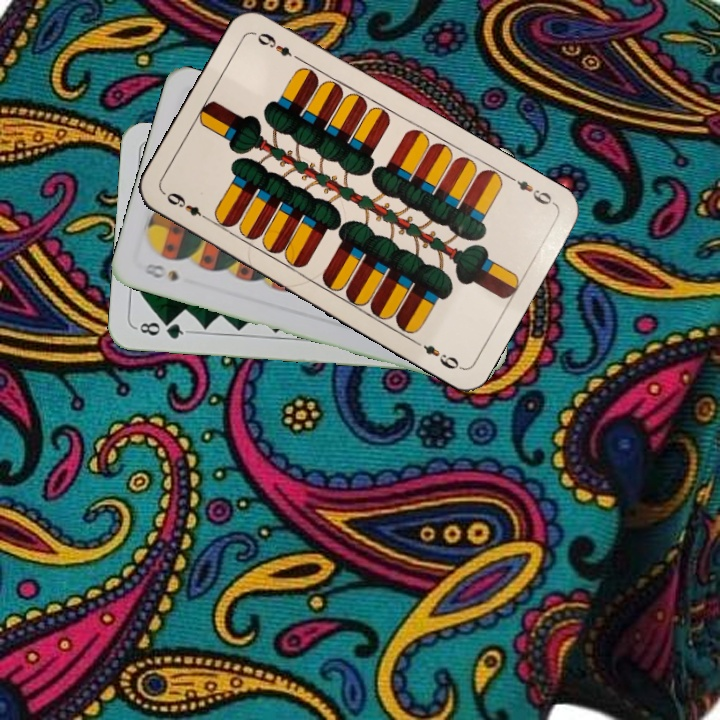E9: (504, 171, 558, 208), (160, 188, 214, 224)
G8: (132, 317, 191, 342)
S8: (140, 258, 181, 284)
